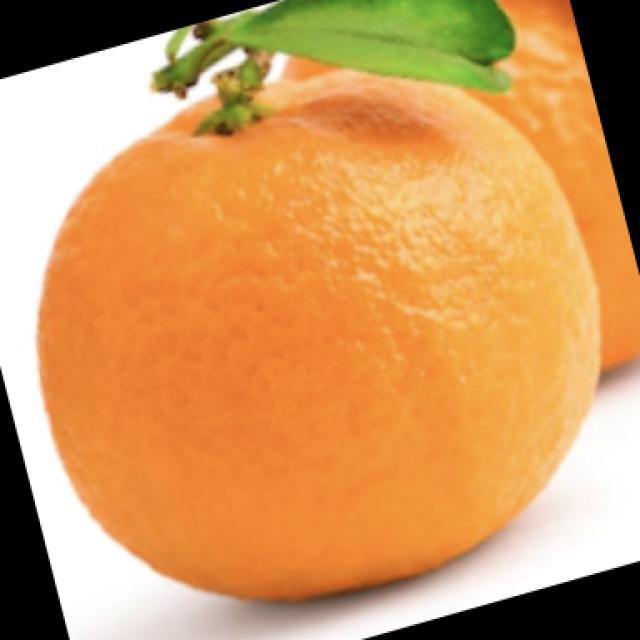matang: (38, 72, 599, 598)
